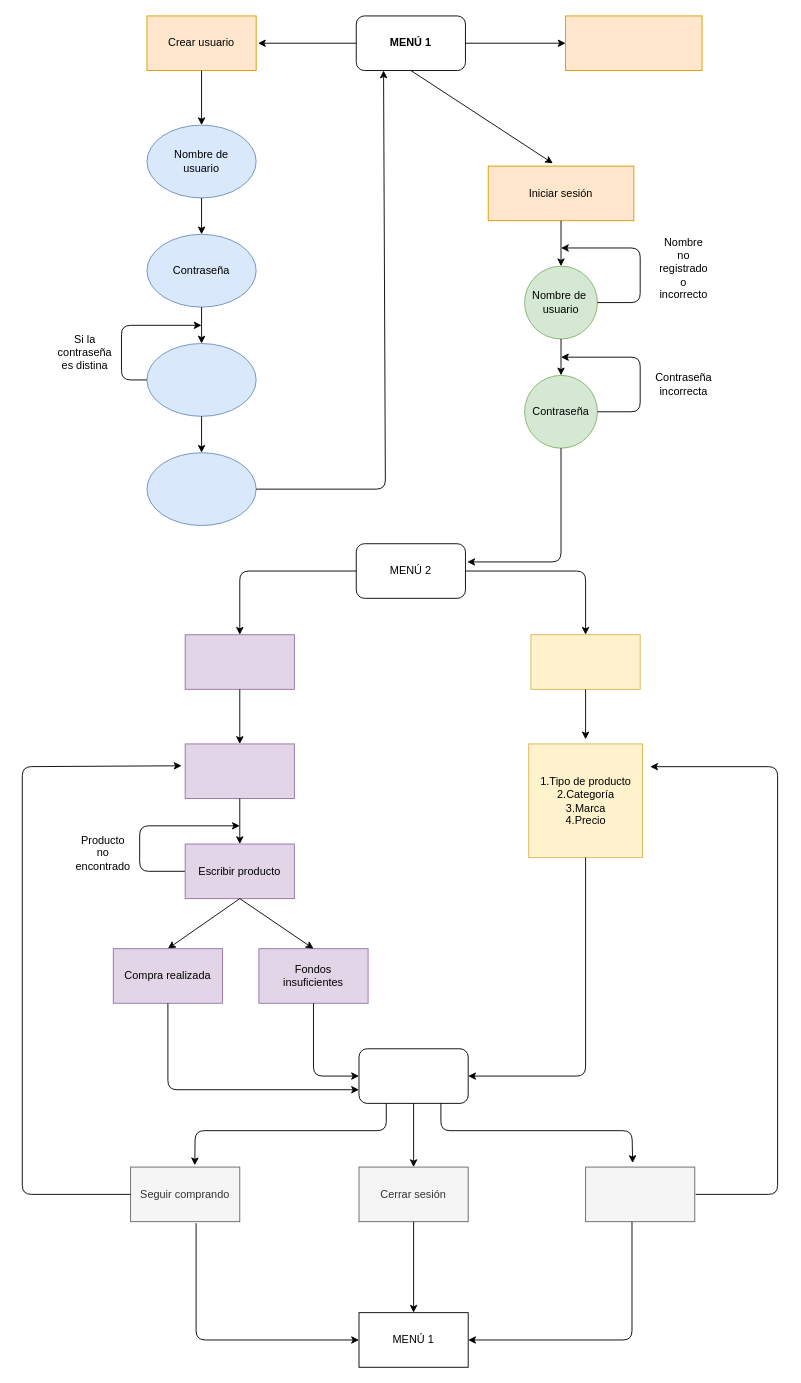
The diagram is 801 pixels wide and 1383 high, and some of its shapes have lost their labels. The centre of each missing label's shape, as x and y in pixels:
"COMPRAR" goes at (239,661).
"Introducir fondos a la cuenta" goes at (201,489).
"MENÚ 3" goes at (413,1075).
"Menú de productos" goes at (239,771).
"Repetir contraseña" goes at (201,379).
"Salir de la aplicación" goes at (633,43).
"Seguir vendiendo" goes at (640,1194).
"VENDER" goes at (585,661).
